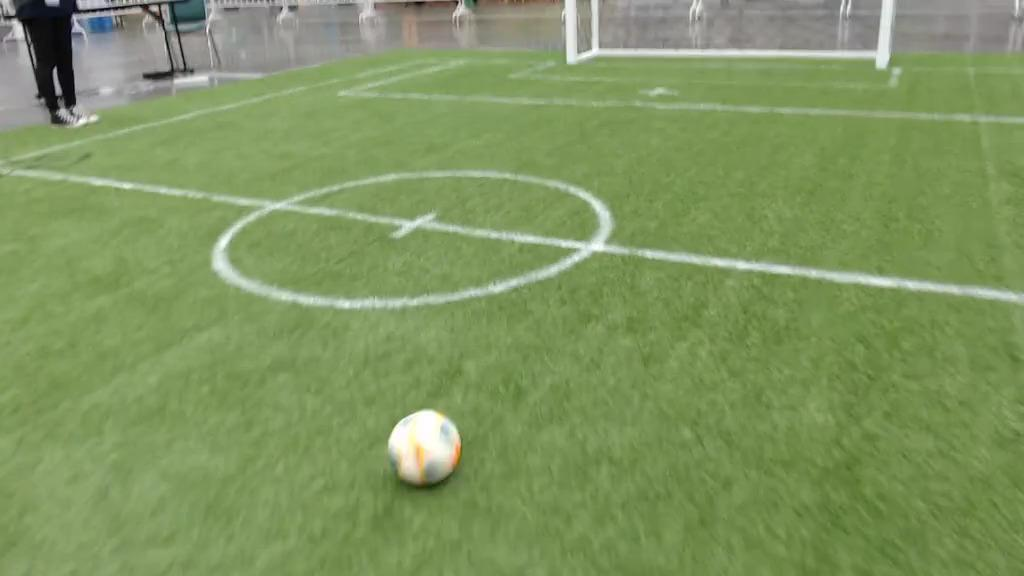ball: (390, 408, 459, 486)
